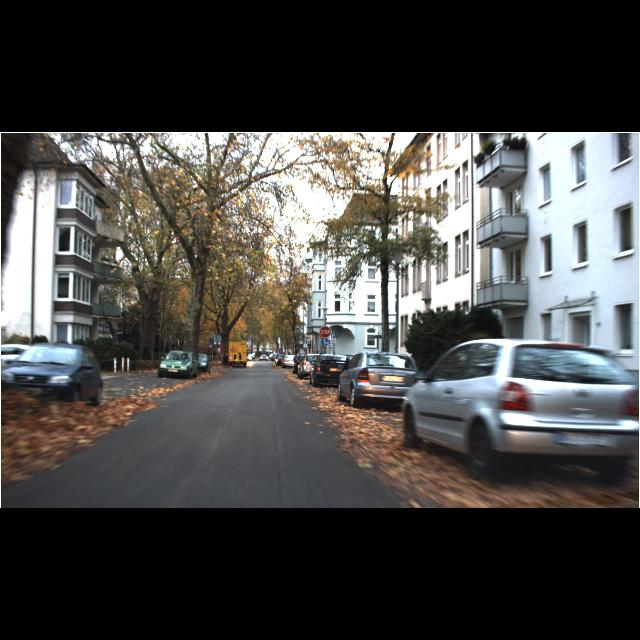mandatory: (321, 338, 329, 346)
other: (320, 326, 330, 336)
